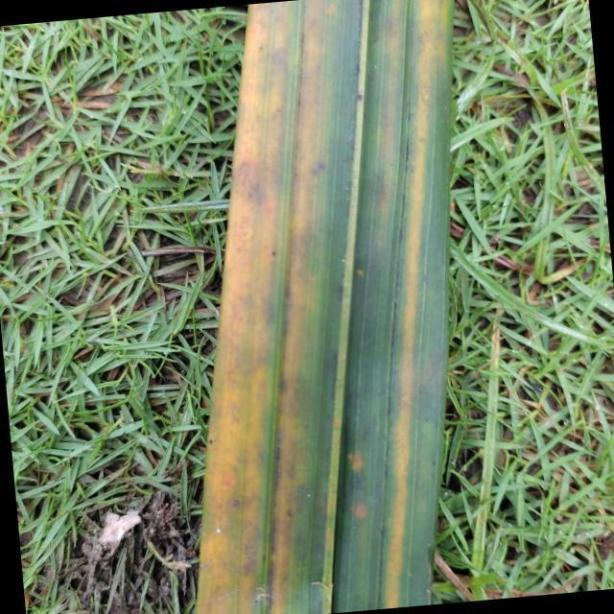Megnesium: (189, 0, 452, 614)
